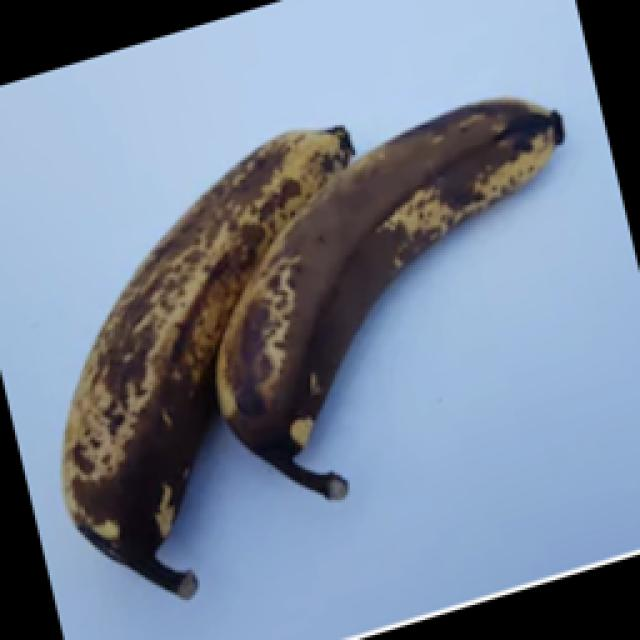Rotten_Banana: (14, 0, 576, 578)
